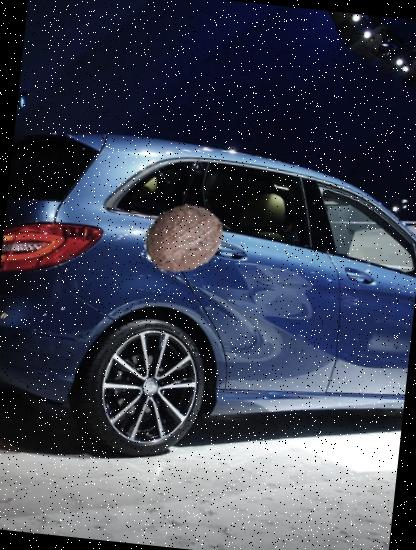Cocos: (136, 192, 231, 287)
